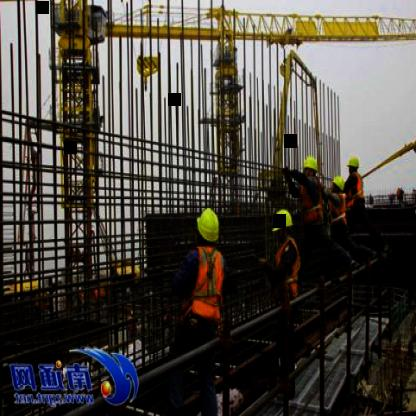helmet: (194, 204, 222, 252), (272, 206, 294, 246), (300, 156, 320, 184), (346, 154, 362, 180), (328, 174, 346, 197)
